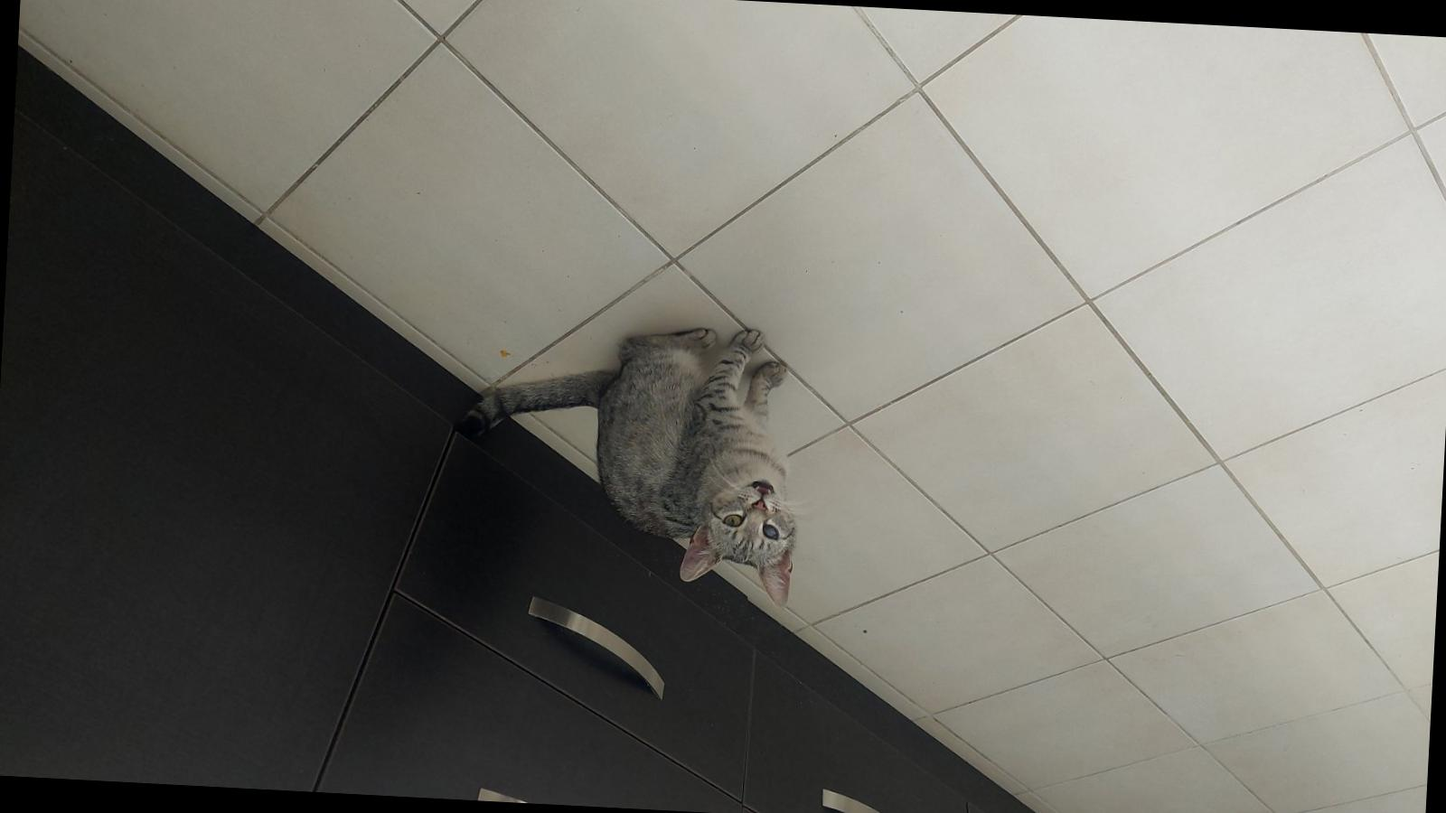macka: (450, 313, 807, 608)
